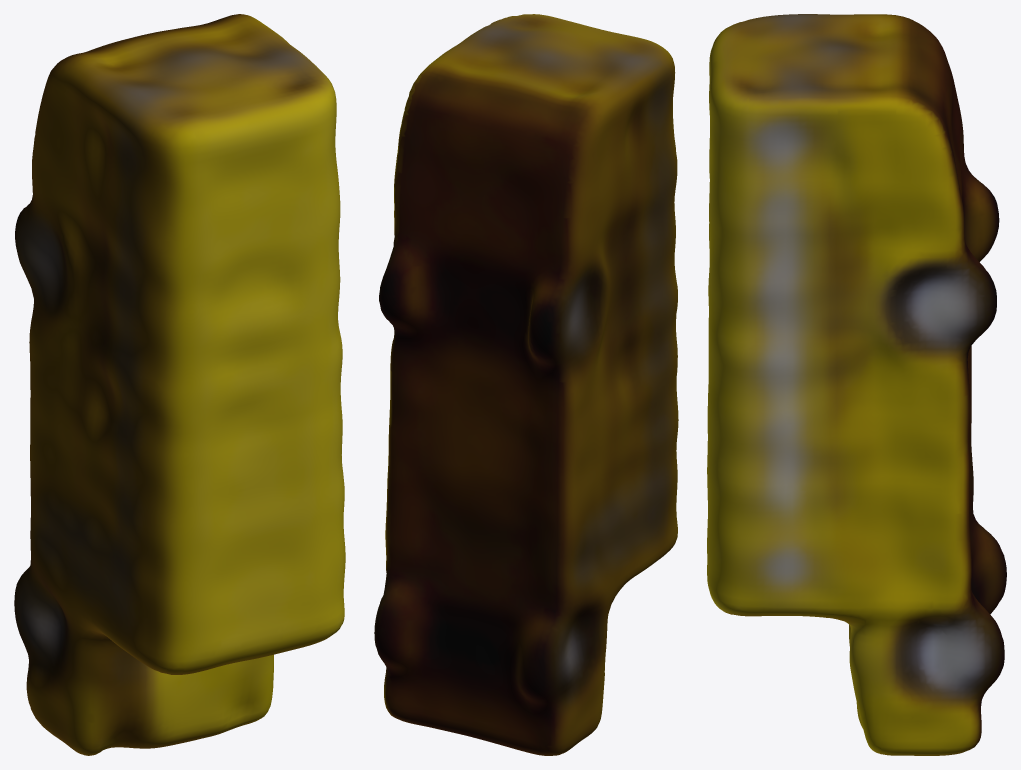
Rendered from school_bus1.glb.
The picture shows the model from 3 angles, left to right: view 1: azimuth 30°, elevation 25°; view 2: azimuth 150°, elevation 25°; view 3: azimuth 270°, elevation 25°; orthographic projection. The views are drawn at different scales.
Bounding box in the file's own units: 0.307 × 0.9998 × 0.4055.
